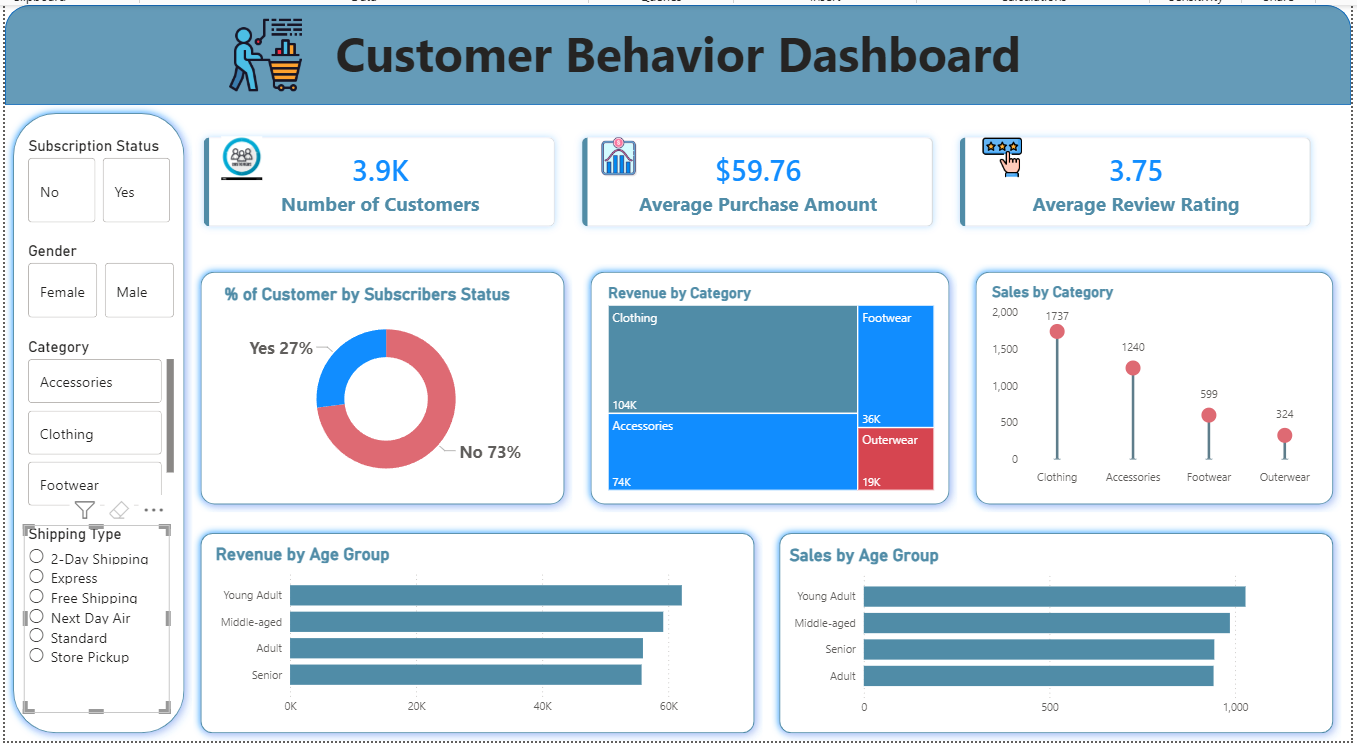

What the dashboard file says about the page in this screenshot:
{"tool":"powerbi","page":{"name":"Page 1","canvas":[1500,820],"ordinal":0},"visuals":[{"type":"cardVisual","fields":{"Data":["mydatabase customer.Number of Customers","mydatabase customer.Average Purchase Amount","mydatabase customer.Average Review Rating"]},"box":[193.6,119.8,1291,156],"z":0},{"type":"shape","box":[0,0,1499.9,111.4],"z":1000},{"type":"textbox","box":[0,12.5,1499.9,87.7],"z":2000},{"type":"shape","box":[208.9,288.3,423.4,277.1],"z":3000},{"type":"donutChart","title":"% of Customer by Subscribers Status","fields":{"Category":["mydatabase customer.subscription_status"],"Y":["CountNonNull(mydatabase customer.customer_id)"]},"box":[239.5,310.6,370.5,235.4],"z":4000},{"type":"shape","box":[643.4,288.3,417.8,277.1],"z":5000},{"type":"shape","box":[1072.4,288.3,416.4,277.1],"z":6000},{"type":"treemap","title":"Revenue by Category","fields":{"Group":["mydatabase customer.category"],"Values":["Sum(mydatabase customer.purchase_amount)"]},"box":[667.1,310.6,373.2,235.4],"z":7000},{"type":"lineChart","title":"Sales by Category ","fields":{"Y":["CountNonNull(mydatabase customer.customer_id)"],"Category":["mydatabase customer.category"]},"box":[1094.6,309.2,373.2,235.4],"z":8000},{"type":"shape","box":[0,111.4,208.9,708.9],"z":9000},{"type":"advancedSlicerVisual","fields":{"Values":["mydatabase customer.subscription_status"]},"box":[20.9,146.2,169.9,101.7],"z":10000},{"type":"advancedSlicerVisual","fields":{"Values":["mydatabase customer.gender"]},"box":[20.9,263.2,172.7,90.5],"z":11000},{"type":"advancedSlicerVisual","fields":{"Values":["mydatabase customer.category"]},"box":[20.9,370.5,172.7,195],"z":12000},{"type":"listSlicer","fields":{"Values":["mydatabase customer.shipping_type"]},"box":[20.9,579.4,162.9,208.9],"z":13000},{"type":"shape","box":[208.9,579.4,635.1,240.9],"z":14000},{"type":"clusteredBarChart","title":"Revenue by Age Group","fields":{"Category":["mydatabase customer.age_group"],"Y":["Sum(mydatabase customer.purchase_amount)"]},"box":[229.8,600.2,594.7,199.2],"z":15000},{"type":"shape","box":[853.7,579.4,635.1,240.9],"z":16000},{"type":"clusteredBarChart","title":"Sales by Age Group","fields":{"Category":["mydatabase customer.age_group"],"Y":["CountNonNull(mydatabase customer.customer_id)"]},"box":[869,601.6,604.4,199.2],"z":17000},{"type":"image","box":[183.8,12.5,213.1,86.3],"z":18000},{"type":"image","box":[655.9,146.2,57.1,46],"z":19000},{"type":"image","box":[1083.5,146.2,55.7,47.4],"z":20000},{"type":"image","box":[229.8,146.2,68.2,48.7],"z":21000}]}

Visuals, with their boxes in screenshot pixels (x1, y1, x2, y2):
cardVisual - mydatabase customer.Number of Customers x mydatabase customer.Average Purchase Amount: x1=180, y1=103, x2=1332, y2=243
shape: x1=7, y1=0, x2=1345, y2=96
textbox: x1=7, y1=8, x2=1345, y2=86
shape: x1=193, y1=254, x2=571, y2=501
"% of Customer by Subscribers Status" donutChart: x1=221, y1=274, x2=551, y2=484
shape: x1=581, y1=254, x2=954, y2=501
shape: x1=964, y1=254, x2=1335, y2=501
"Revenue by Category" treemap: x1=602, y1=274, x2=935, y2=484
"Sales by Category " lineChart: x1=984, y1=272, x2=1317, y2=482
shape: x1=7, y1=96, x2=193, y2=728
advancedSlicerVisual - mydatabase customer.subscription_status: x1=26, y1=127, x2=177, y2=218
advancedSlicerVisual - mydatabase customer.gender: x1=26, y1=231, x2=180, y2=312
advancedSlicerVisual - mydatabase customer.category: x1=26, y1=327, x2=180, y2=501
listSlicer - mydatabase customer.shipping_type: x1=26, y1=513, x2=171, y2=700
shape: x1=193, y1=513, x2=760, y2=728
"Revenue by Age Group" clusteredBarChart: x1=212, y1=532, x2=743, y2=710
shape: x1=769, y1=513, x2=1335, y2=728
"Sales by Age Group" clusteredBarChart: x1=782, y1=533, x2=1322, y2=711
image: x1=171, y1=8, x2=361, y2=85
image: x1=592, y1=127, x2=643, y2=168
image: x1=974, y1=127, x2=1023, y2=169
image: x1=212, y1=127, x2=273, y2=170
